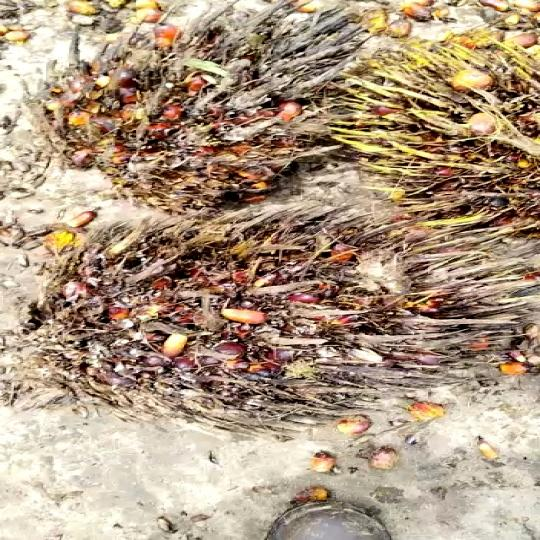terlalu masak: (19, 215, 537, 424), (2, 4, 420, 209)
